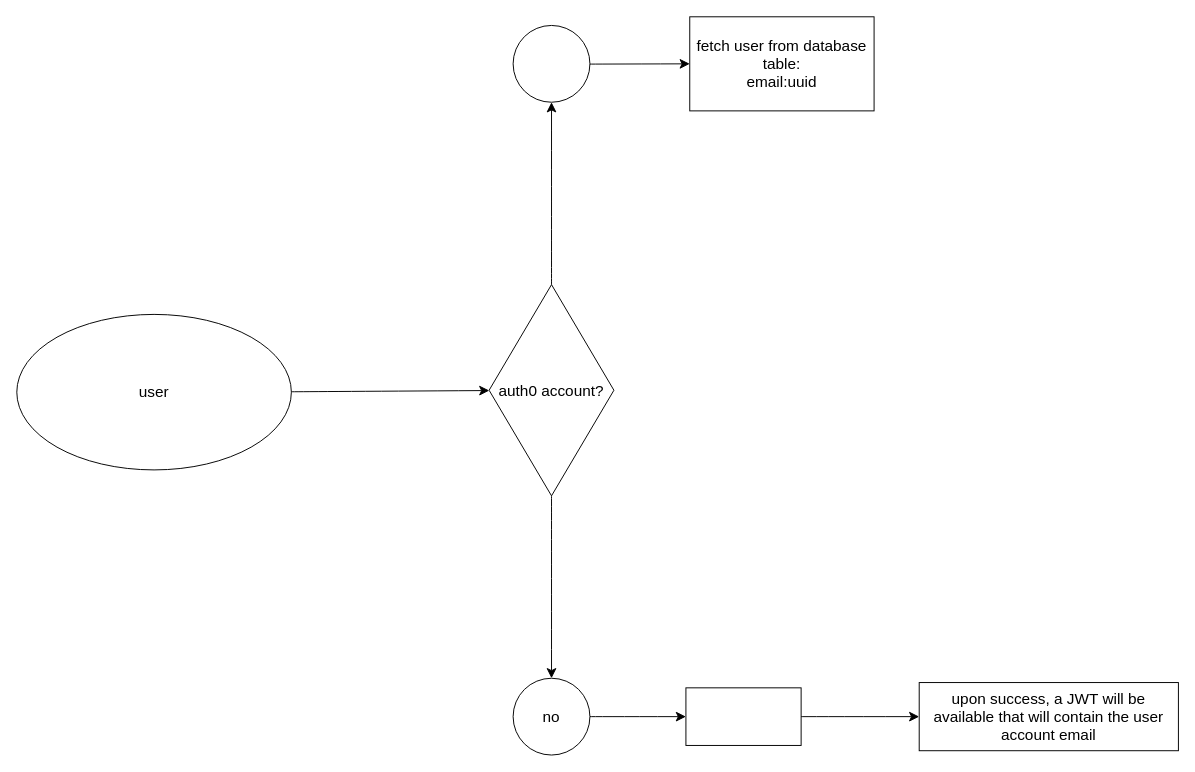
This 1195x772 diagram has some shape labels left out. Each missing label, with the box of its shape:
create account (handled by auth0).: (685, 687, 801, 745)
yes: (512, 24, 590, 102)
